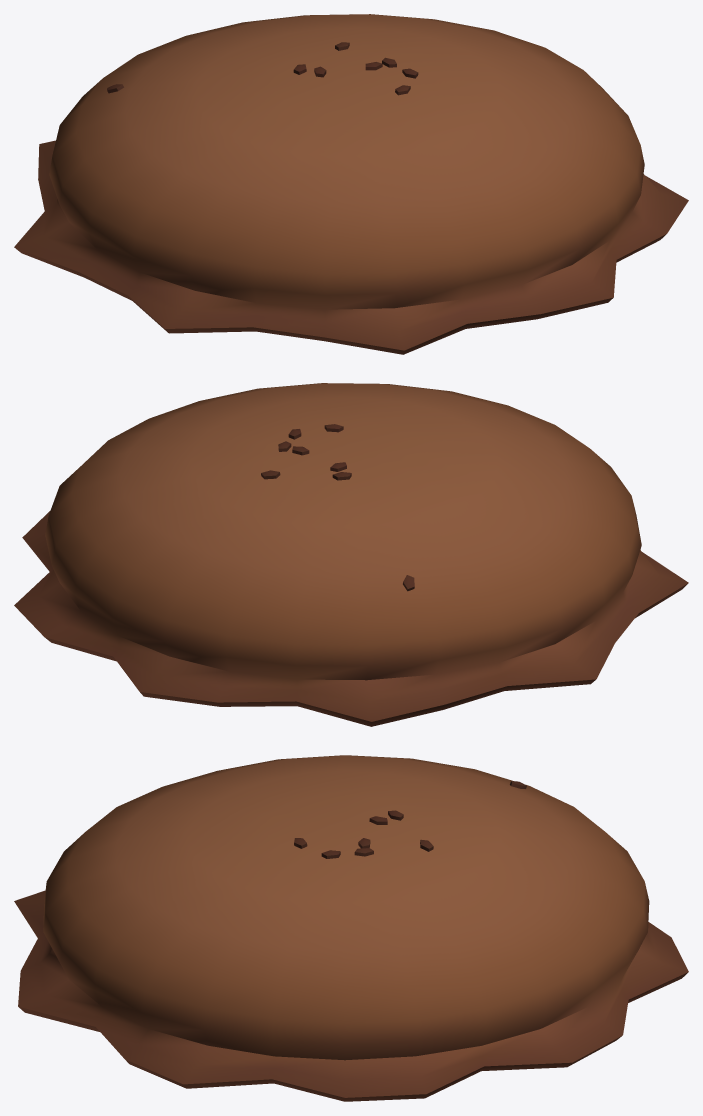
Rendered from scoop_choco.glb.
3 renders of one model, top to bottom at view 1: azimuth 30°, elevation 25°; view 2: azimuth 150°, elevation 25°; view 3: azimuth 270°, elevation 25°, orthographic. The views are drawn at different scales.
Visible parts, largest first — view 1: body; view 2: body; view 3: body.
Part boxes in pixels (bbox=[...]): body: bbox=[14, 14, 688, 354]; body: bbox=[14, 383, 688, 726]; body: bbox=[14, 755, 688, 1101].
Bounding box in the file's own units: 0.9226 × 0.22 × 0.9074.
